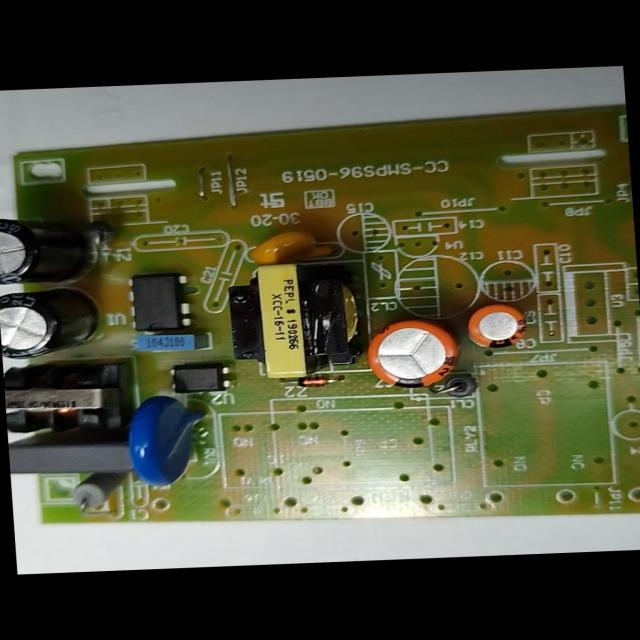Cap1: (361, 318, 464, 391)
Cap2: (462, 303, 530, 349)
Cap3: (0, 288, 107, 360)
Cap4: (0, 216, 99, 288)
MOSFET: (124, 271, 194, 335)
Mov: (126, 392, 215, 489)
Resistor: (68, 475, 128, 509)
Transformer: (224, 258, 370, 383), (3, 360, 135, 440)
